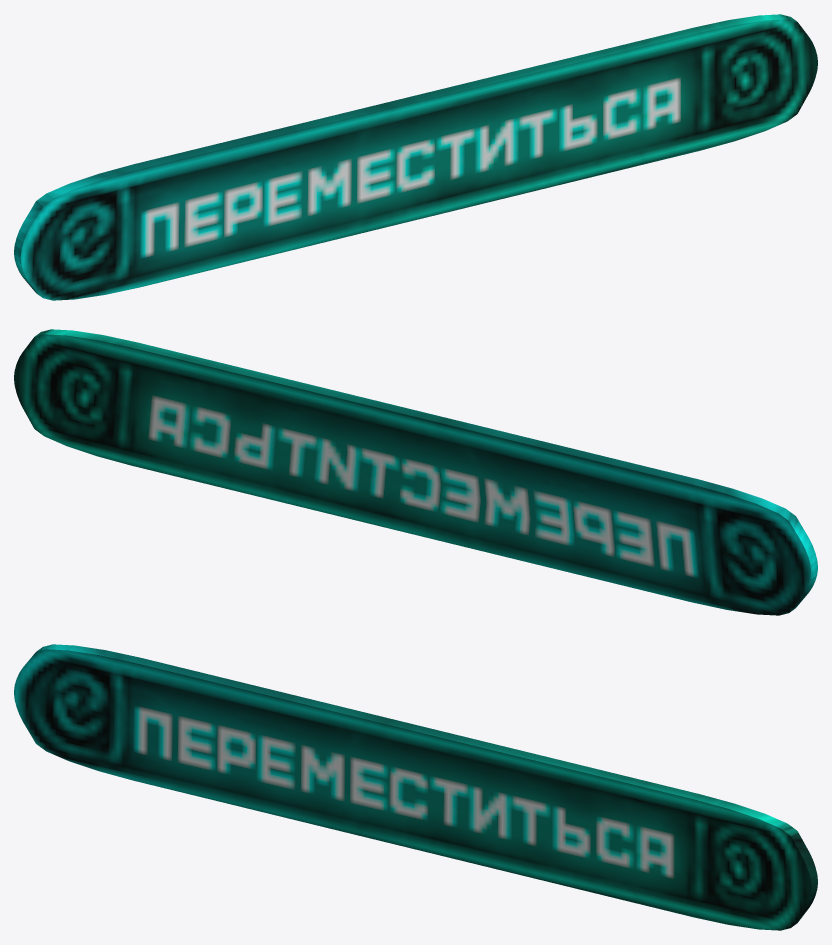
Rendered from batton.gltf.
3 renders of one model, top to bottom at view 1: azimuth 30°, elevation 25°; view 2: azimuth 150°, elevation 25°; view 3: azimuth 330°, elevation 25°, orthographic.
Visible parts, largest first — view 1: Cube.001; view 2: Cube.001; view 3: Cube.001.
Part boxes in pixels (box(x1,y1,x2,y2)): Cube.001: box(14, 14, 817, 300); Cube.001: box(14, 329, 817, 615); Cube.001: box(14, 644, 817, 930).
Size of the model in its own units: 0.7163 by 0.1014 by 0.0106.
1 material, 1 textured.
